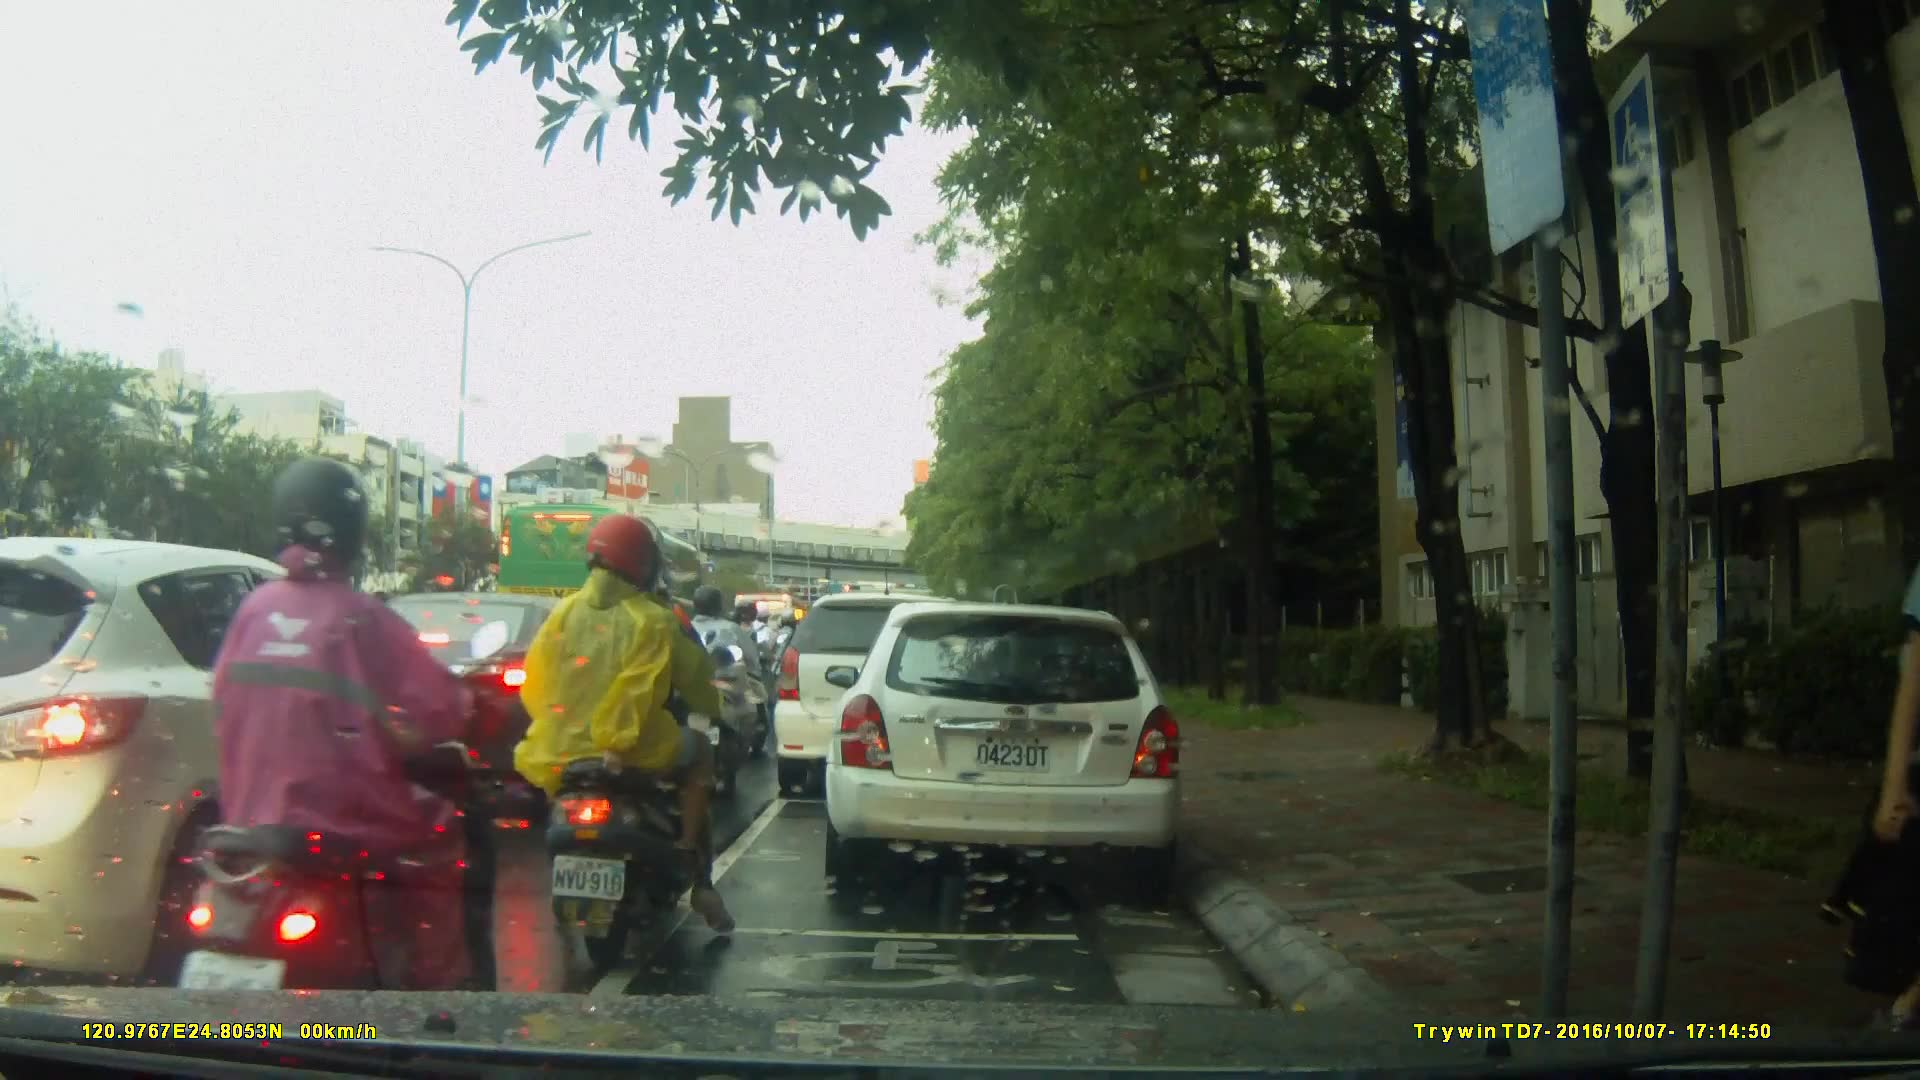pedestrian: (1837, 444, 1920, 1017)
rider: (177, 461, 485, 1058), (512, 518, 732, 965), (676, 589, 759, 793), (725, 595, 780, 752)
vehicle: (3, 535, 464, 988), (831, 592, 1196, 897), (319, 590, 629, 776), (770, 590, 999, 804), (495, 499, 709, 636)
